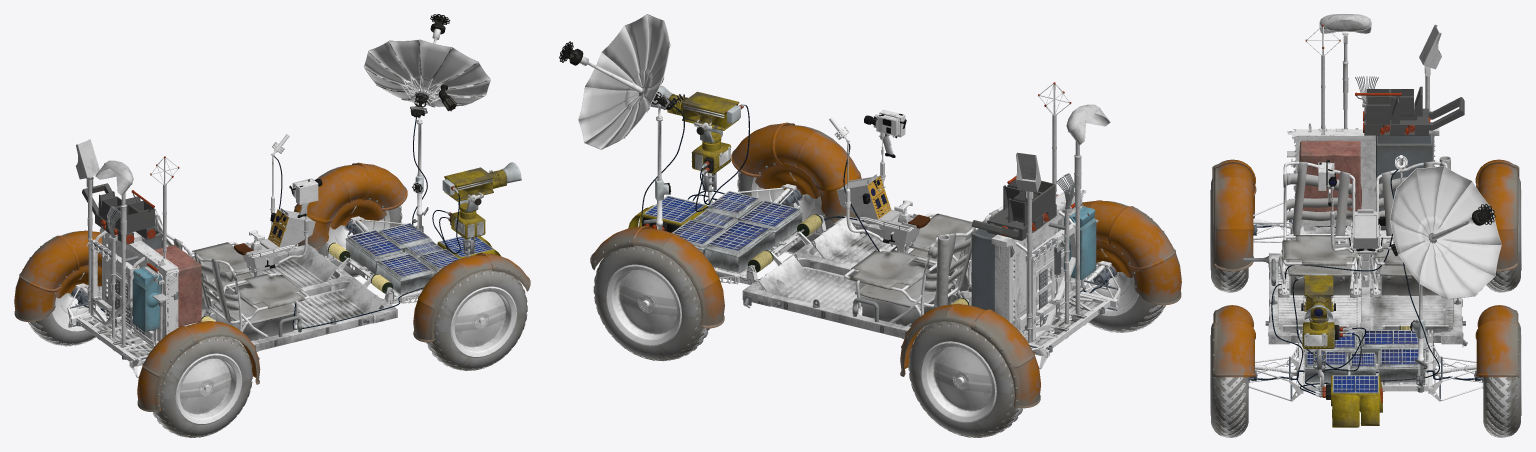
Rendered from lunar_rover-opt.glb.
The picture shows the model from 3 angles, left to right: view 1: azimuth 30°, elevation 25°; view 2: azimuth 150°, elevation 25°; view 3: azimuth 270°, elevation 25°; orthographic projection. The views are drawn at different scales.
Parts seen in each view (by area): view 1: Object_8, Object_16, Object_10, Object_11, Object_6, Object_13, Object_9, Object_17, Object_12, Object_14; view 2: Object_8, Object_16, Object_11, Object_10, Object_6, Object_9, Object_13, Object_17, Object_12, Object_14, Object_15; view 3: Object_16, Object_11, Object_17, Object_13, Object_6, Object_8, Object_10, Object_9, Object_12, Object_15, Object_14.
Part boxes in pixels (x1,y1,x2,y2): Object_8: [22, 165, 527, 437]; Object_16: [76, 139, 202, 347]; Object_10: [14, 162, 530, 437]; Object_11: [274, 14, 521, 329]; Object_6: [70, 242, 423, 367]; Object_13: [155, 209, 309, 340]; Object_9: [28, 199, 527, 436]; Object_17: [363, 39, 490, 106]; Object_12: [234, 134, 322, 276]; Object_14: [67, 215, 485, 377]; Object_8: [593, 124, 1171, 437]; Object_16: [971, 82, 1110, 342]; Object_11: [559, 41, 896, 272]; Object_10: [590, 122, 1181, 437]; Object_6: [713, 214, 1118, 357]; Object_9: [594, 164, 1165, 437]; Object_13: [844, 206, 1003, 326]; Object_17: [578, 14, 669, 149]; Object_12: [829, 109, 930, 253]; Object_14: [691, 147, 1120, 369]; Object_15: [720, 187, 1119, 350]; Object_16: [1287, 14, 1464, 230]; Object_11: [1271, 169, 1495, 427]; Object_17: [1389, 165, 1501, 298]; Object_13: [1271, 156, 1450, 297]; Object_6: [1243, 226, 1467, 393]; Object_8: [1210, 162, 1521, 437]; Object_10: [1211, 159, 1519, 437]; Object_9: [1211, 177, 1520, 437]; Object_12: [1318, 155, 1407, 287]; Object_15: [1248, 200, 1483, 400]; Object_14: [1248, 128, 1483, 401].
Size of the model in its own units: 3.1 by 1.77 by 1.78.
9 materials, 7 textured.
